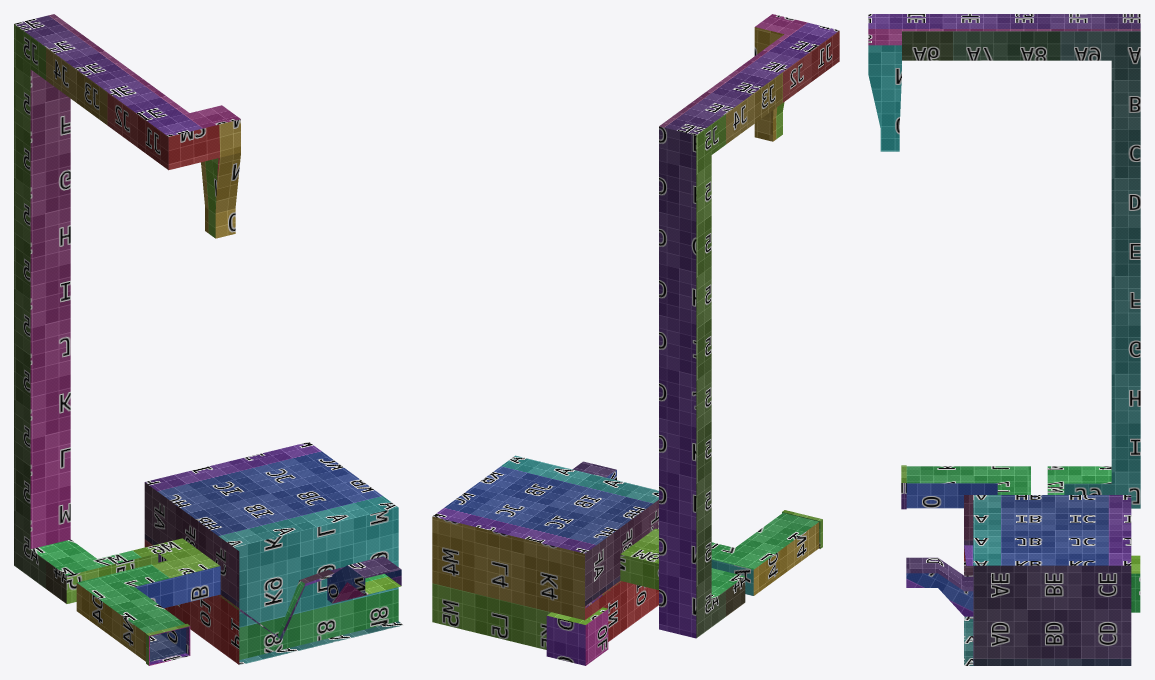
Rendered from Room_1.fbx.
The picture shows the model from 3 angles, left to right: view 1: azimuth 30°, elevation 25°; view 2: azimuth 150°, elevation 25°; view 3: azimuth 270°, elevation 25°; orthographic projection. The views are drawn at different scales.
Visible parts, largest first — view 1: Room_1; view 2: Room_1; view 3: Room_1.
Boxes of the visible parts, bbox=[...] form: Room_1: bbox=[14, 14, 403, 665]; Room_1: bbox=[432, 14, 839, 665]; Room_1: bbox=[868, 14, 1140, 665].
Size of the model in its own units: 40.97 by 81.51 by 37.76.
